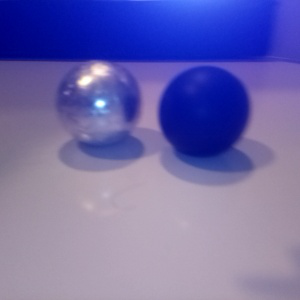alive_ball: (54, 58, 141, 147)
dead_ball: (159, 65, 250, 157)
